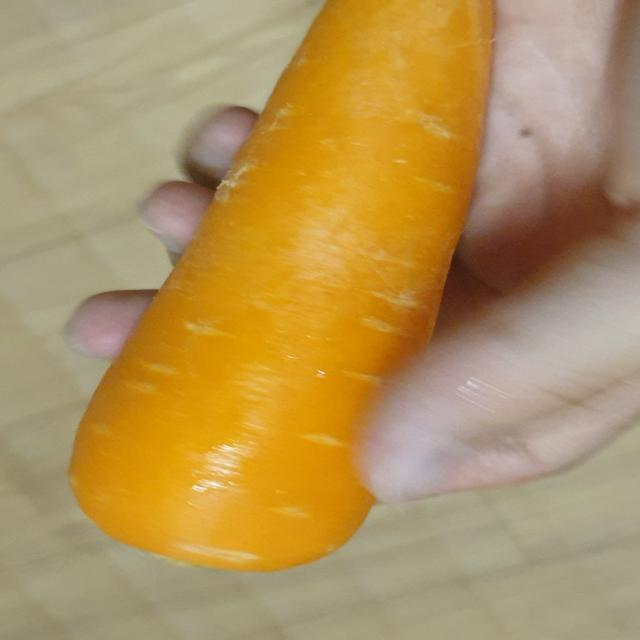carrot: (54, 0, 512, 580)
